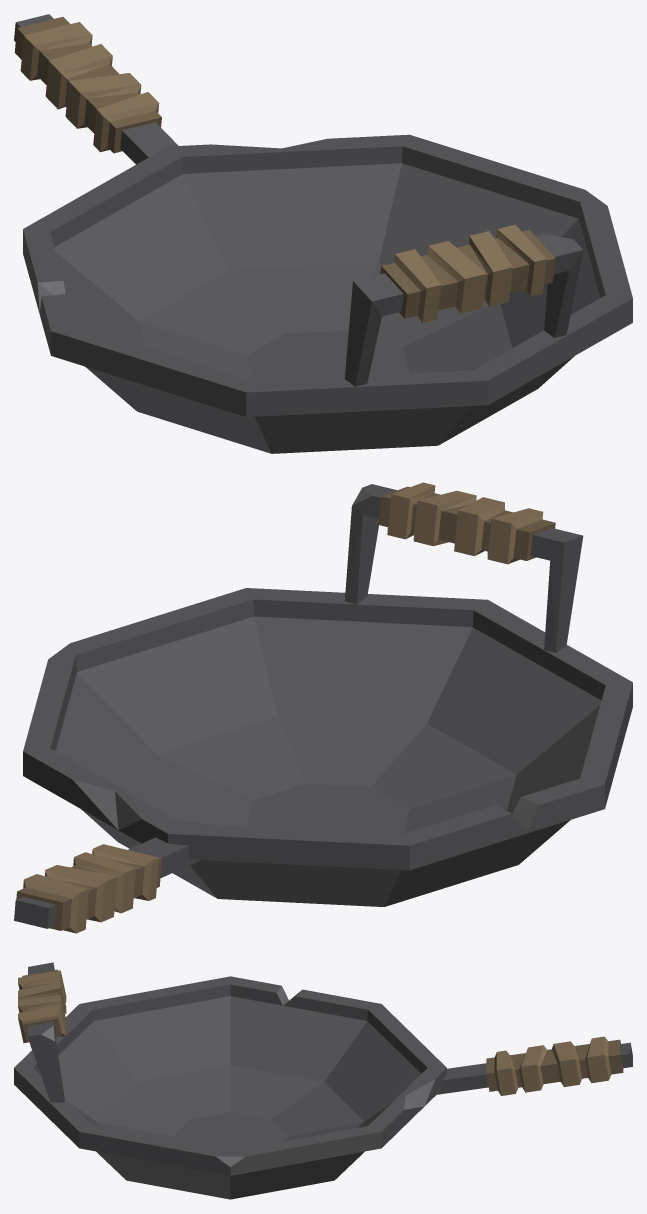
Rendered from SM_Prop_Pot_03.gltf.
3 views of the same model, one above another, from view 1: azimuth 30°, elevation 25°; view 2: azimuth 150°, elevation 25°; view 3: azimuth 270°, elevation 25° (orthographic). The views are drawn at different scales.
Visible parts, largest first — view 1: SM_Prop_Pot_03; view 2: SM_Prop_Pot_03; view 3: SM_Prop_Pot_03.
Boxes of the visible parts, bbox=[...] form: SM_Prop_Pot_03: bbox=[14, 14, 632, 453]; SM_Prop_Pot_03: bbox=[14, 482, 632, 933]; SM_Prop_Pot_03: bbox=[14, 962, 632, 1199].
Size of the model in its own units: 0.6028 by 0.2505 by 0.8616.
1 material, 1 textured.
